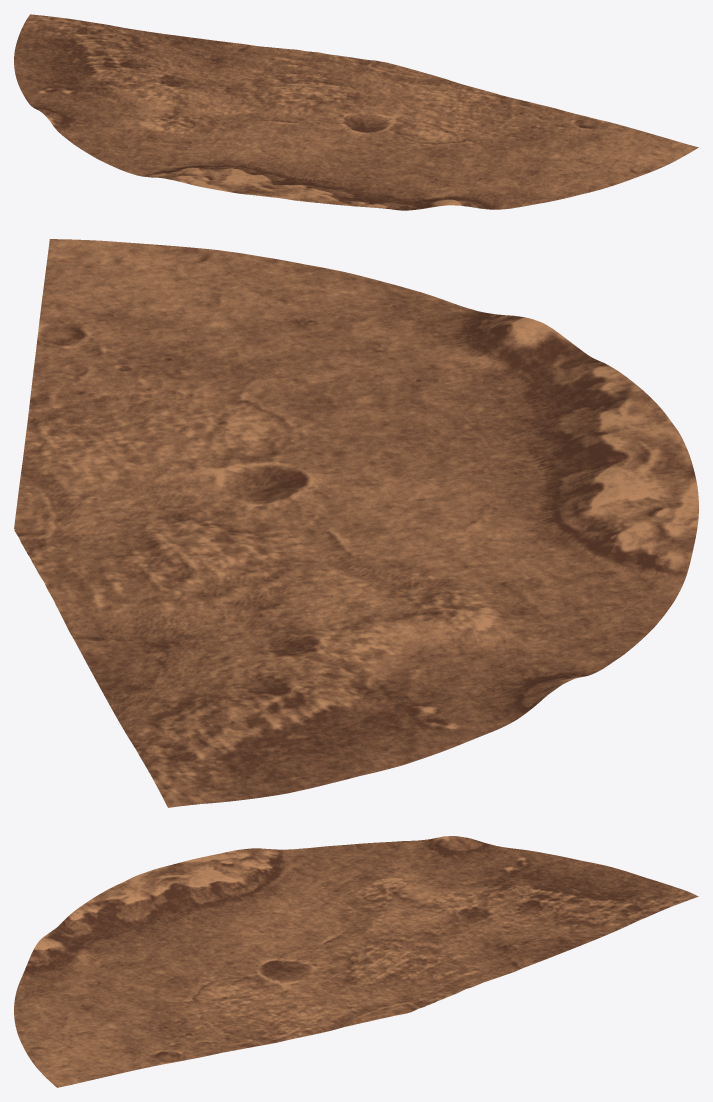
Rendered from near.obj.
The picture shows the model from 3 angles, top to bottom: view 1: azimuth 30°, elevation 25°; view 2: azimuth 150°, elevation 25°; view 3: azimuth 270°, elevation 25°; orthographic projection. The views are drawn at different scales.
Parts seen in each view (by area): view 1: near; view 2: near; view 3: near.
Part boxes in pixels (x1,y1,x2,y2): near: (14,14,698,210); near: (14,239,698,807); near: (14,836,698,1087).
Size of the model in its own units: 3417 by 114 by 4069.
Materials: 1 (1 with a texture image).
